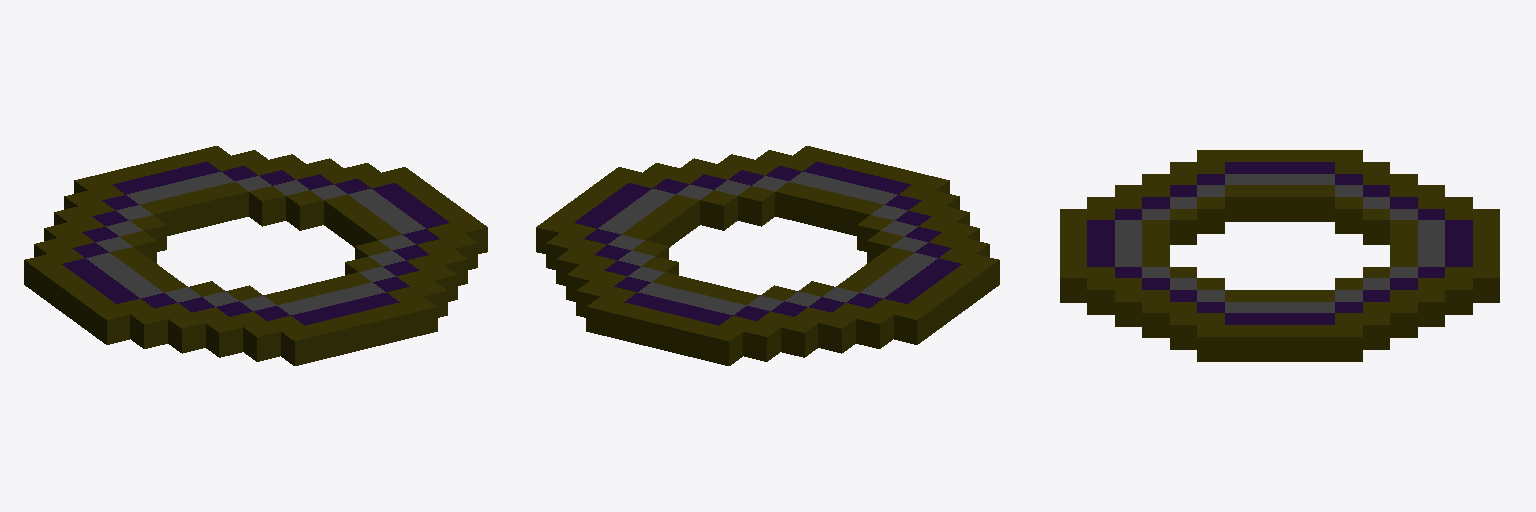
The model's file is hexagon.obj.
3 renders of one model, left to right at view 1: azimuth 30°, elevation 25°; view 2: azimuth 150°, elevation 25°; view 3: azimuth 270°, elevation 25°, orthographic.
Visible parts, largest first — view 1: Brown_Wool.001; view 2: Brown_Wool.001; view 3: Brown_Wool.001.
Boxes of the visible parts, box(x1,y1,x2,y2) form: Brown_Wool.001: box(24, 146, 487, 365); Brown_Wool.001: box(536, 146, 999, 365); Brown_Wool.001: box(1060, 150, 1499, 361).
Bounding box in the file's own units: 0.8 × 0.05 × 0.8.